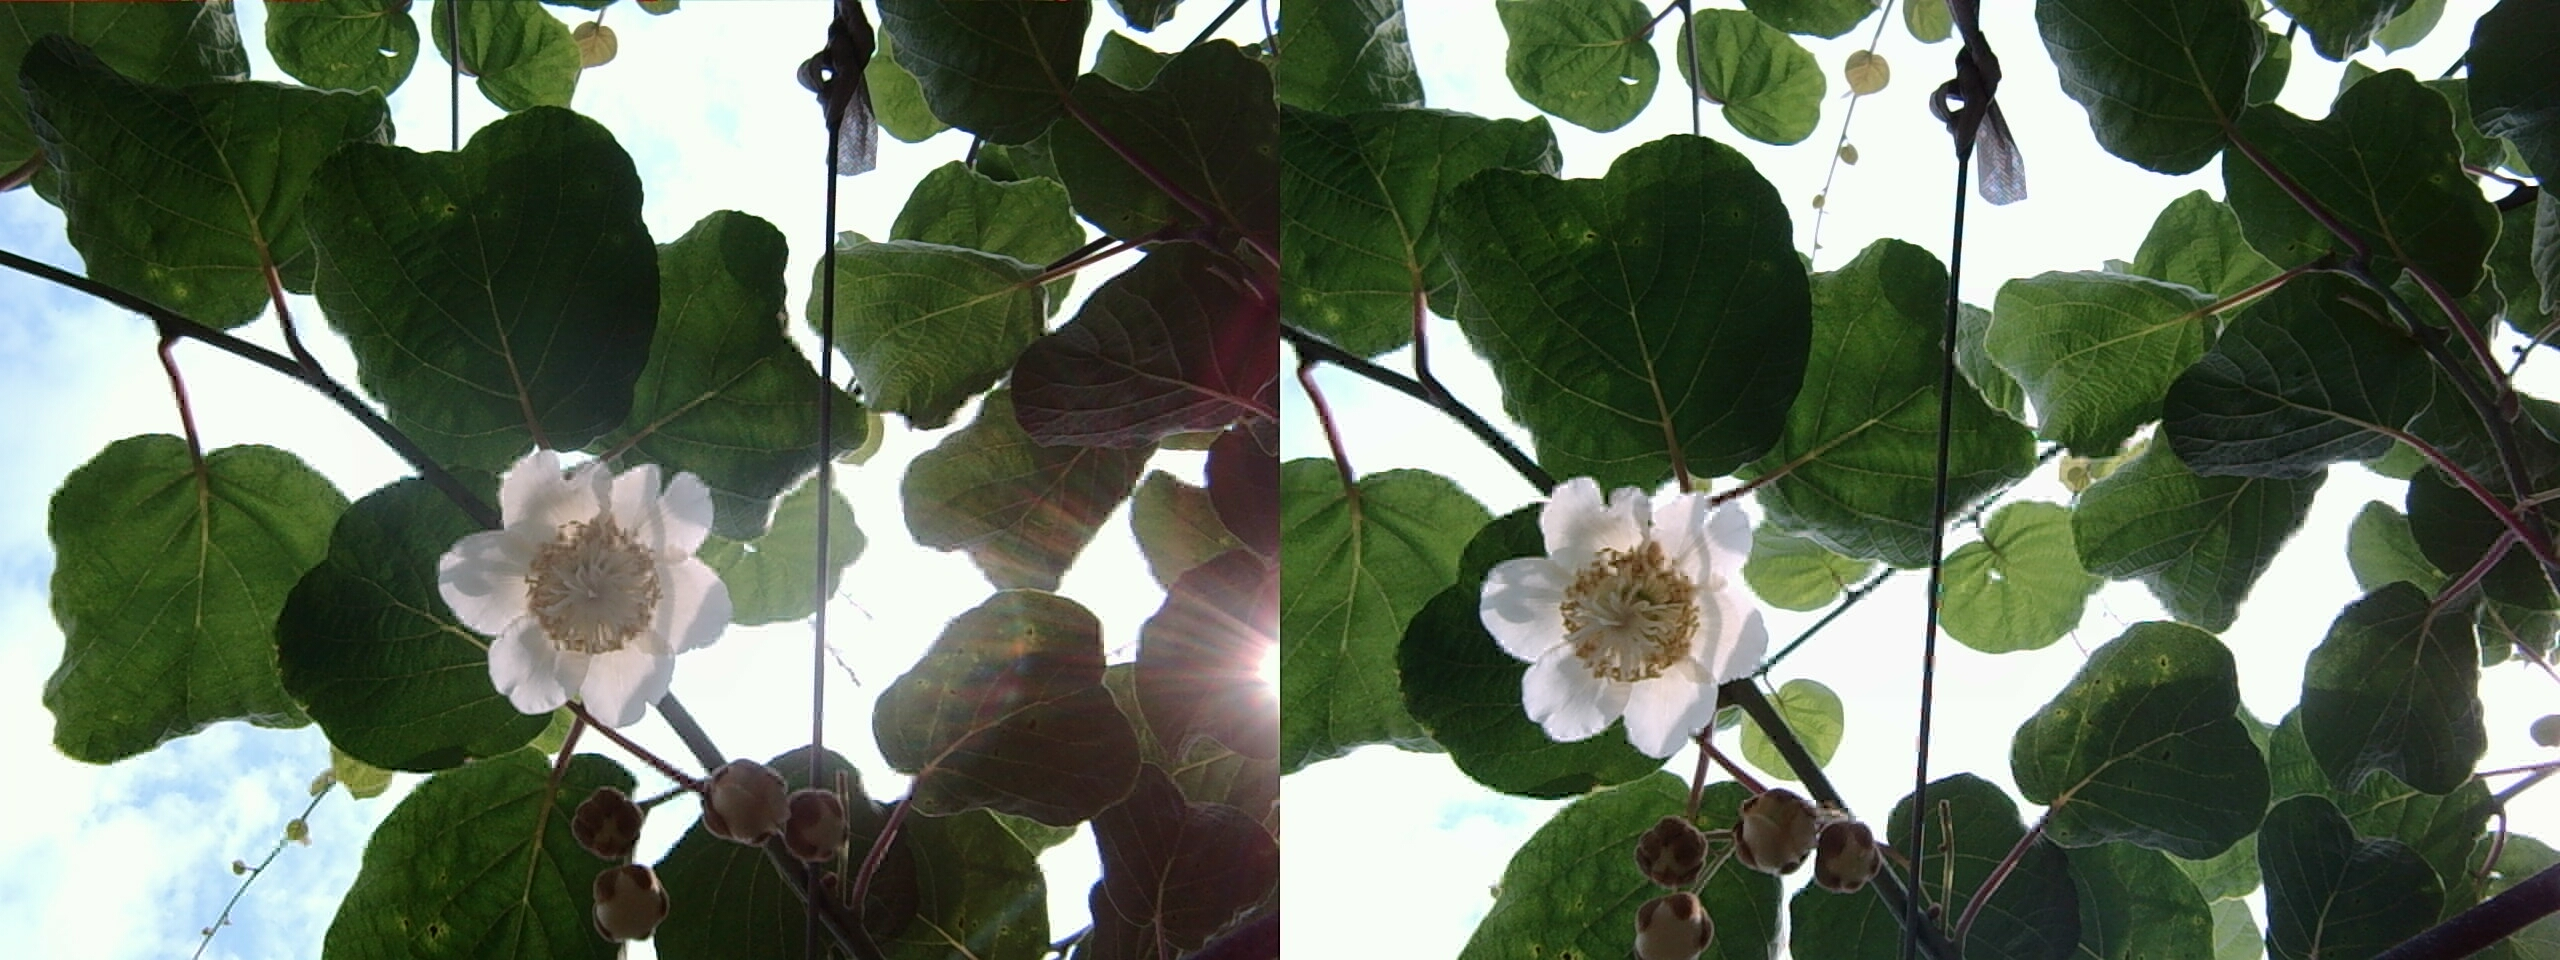flower: (442, 436, 730, 722), (1486, 467, 1744, 741)
